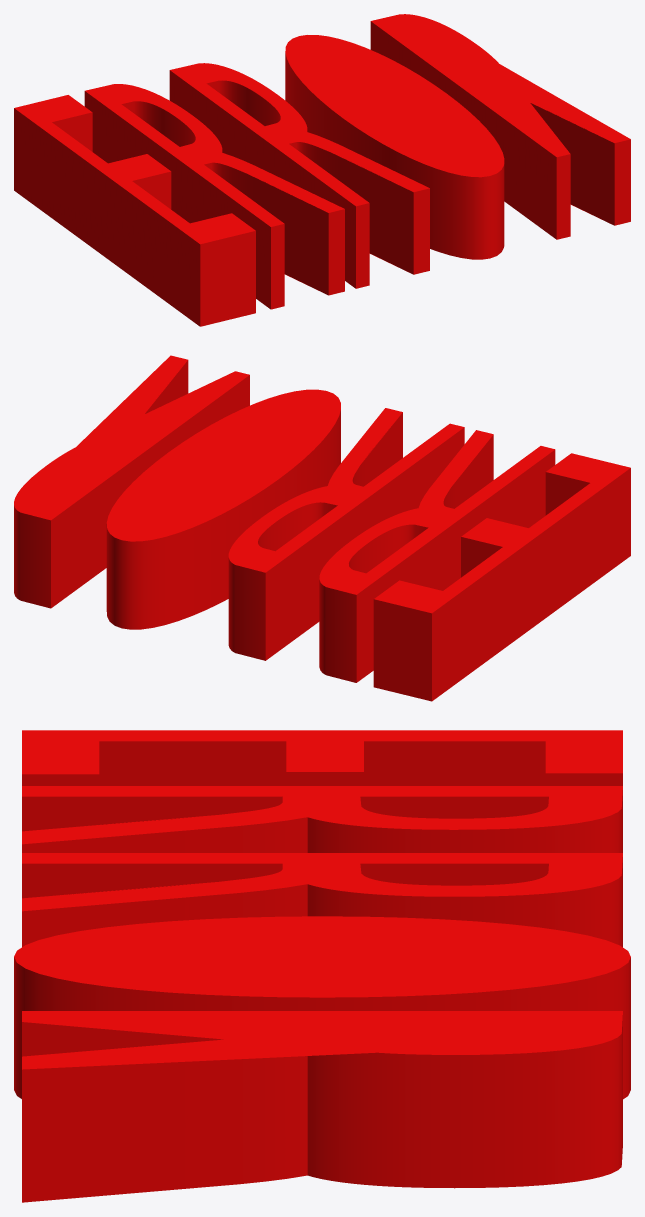
File: ERROR.fbx
3 views of the same model, one above another, from view 1: azimuth 30°, elevation 25°; view 2: azimuth 150°, elevation 25°; view 3: azimuth 270°, elevation 25° (orthographic). The views are drawn at different scales.
Visible parts, largest first — view 1: Text; view 2: Text; view 3: Text.
Boxes of the visible parts, box(x1,y1,x2,y2) form: Text: box(14, 14, 630, 326); Text: box(14, 355, 630, 701); Text: box(14, 730, 630, 1202).
Size of the model in its own units: 306 by 56 by 235.
